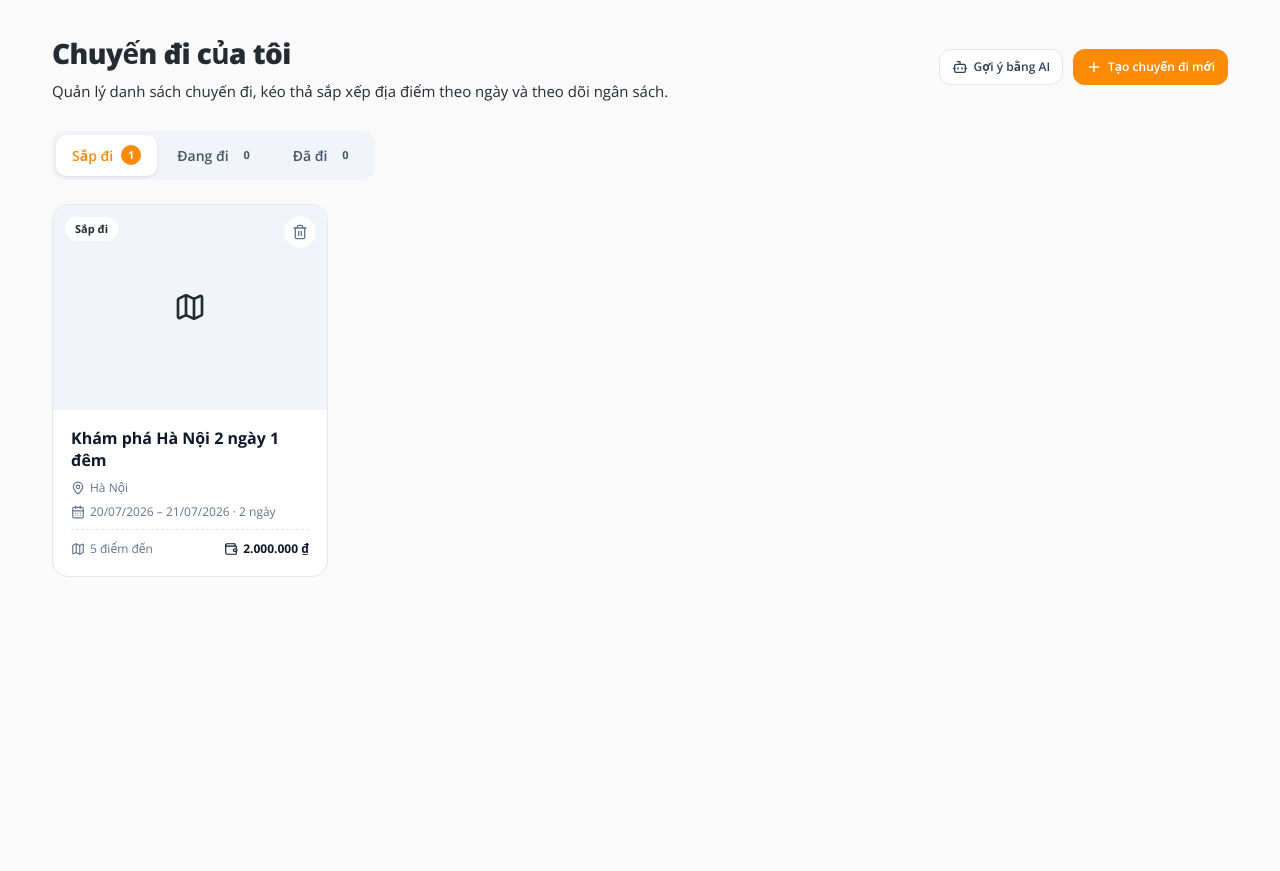
Test case: Pages: TripsPage (/trips) & TripDetailPage (/trips/:id) › TripsPage tải danh sách chuyến đi và cho phép tạo chuyến đi mới
Check: the link "Khám phá Hà Nội 2 ngày 1 đêm" is shown, box [71,428,279,471]
Click the button "Tạo chuyến đi mới". click: (1151, 67)
box: [1073,49,1228,85]
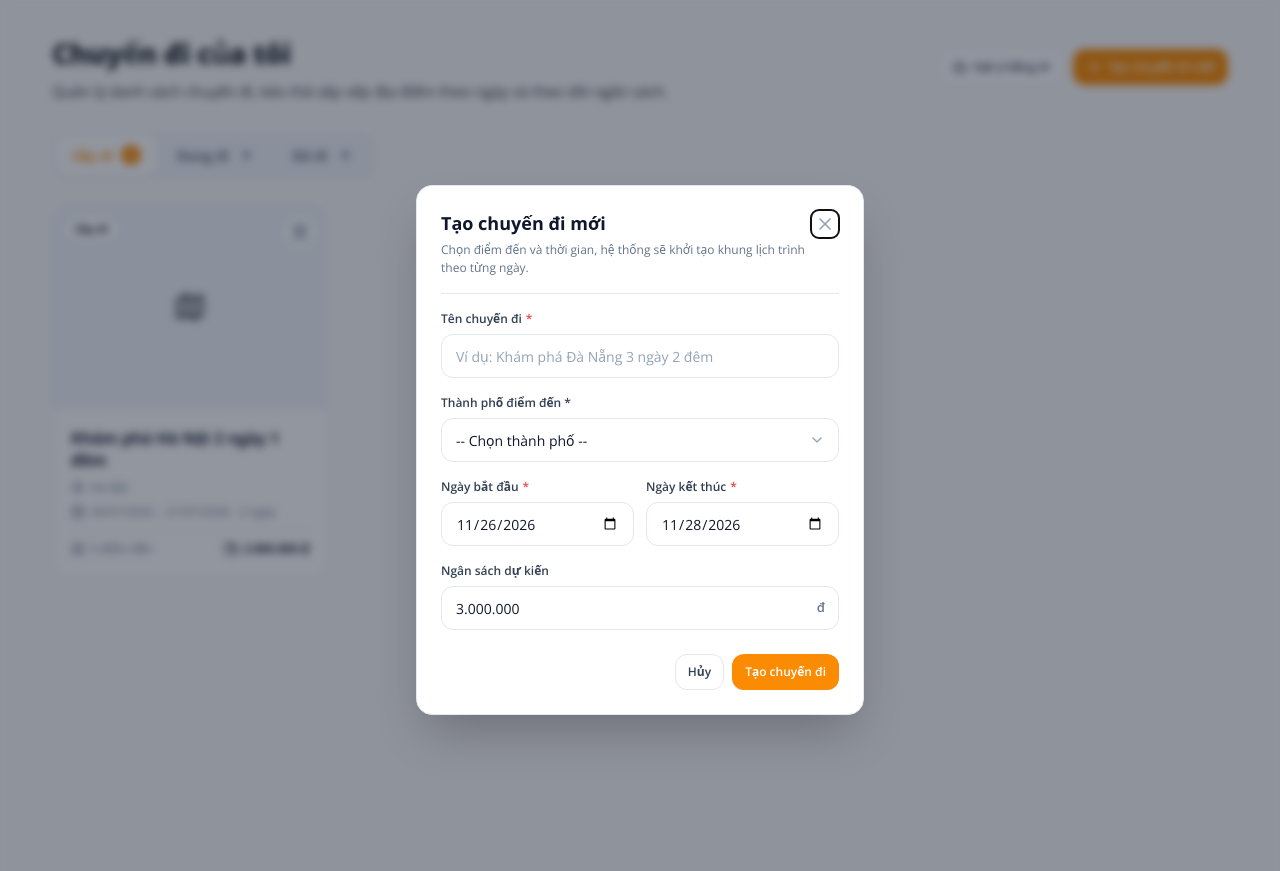
Check: the field labelled "Ngân sách dự kiến" holds "3.000.000", box [441,586,839,630]
Type "Hà Nội cuối tuần" into the field labelled "Tên chuyến đi*". click: (640, 356)
box: [441,334,839,378]
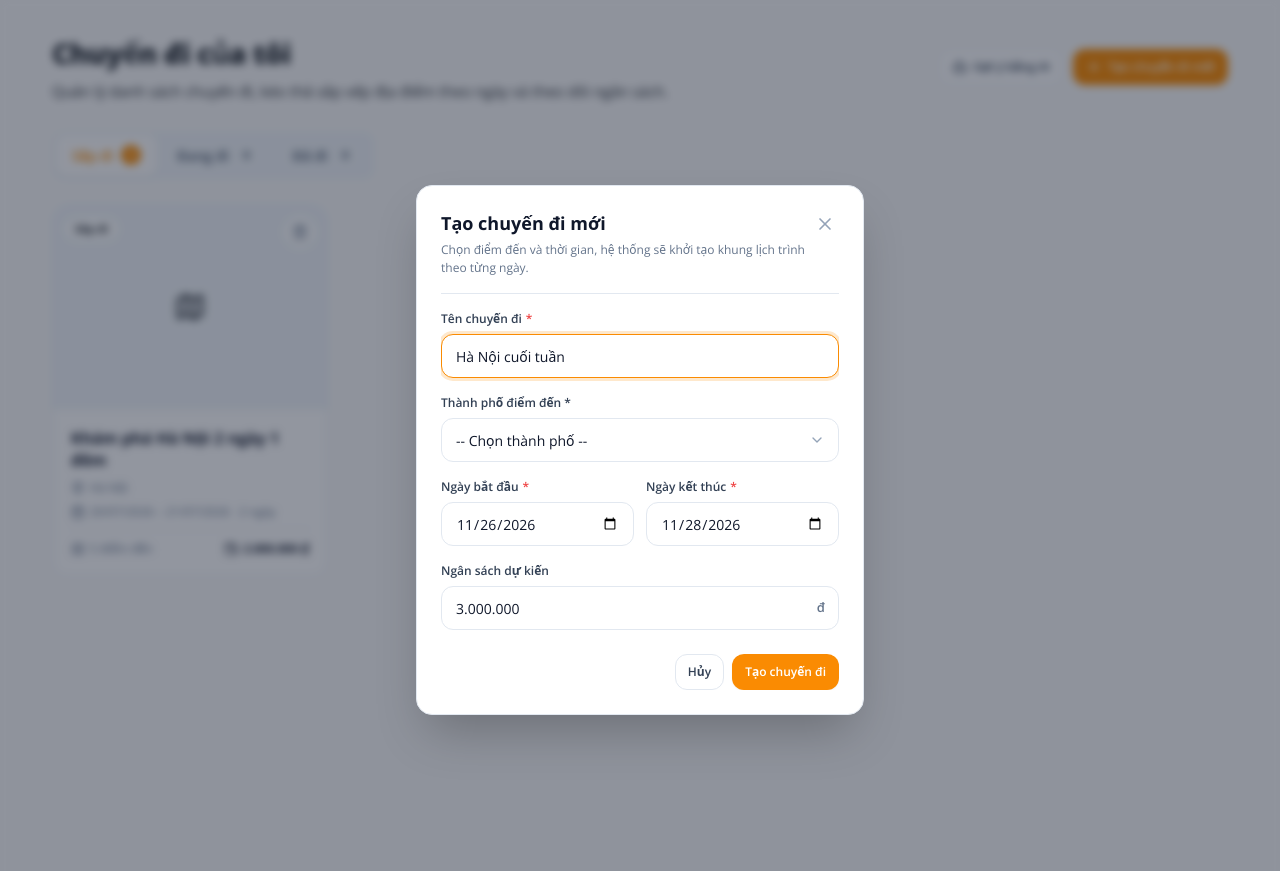
Select "Hà Nội" in the dropdown labelled "Thành phố điểm đến *". click: (640, 440)
box: [441,418,839,462]
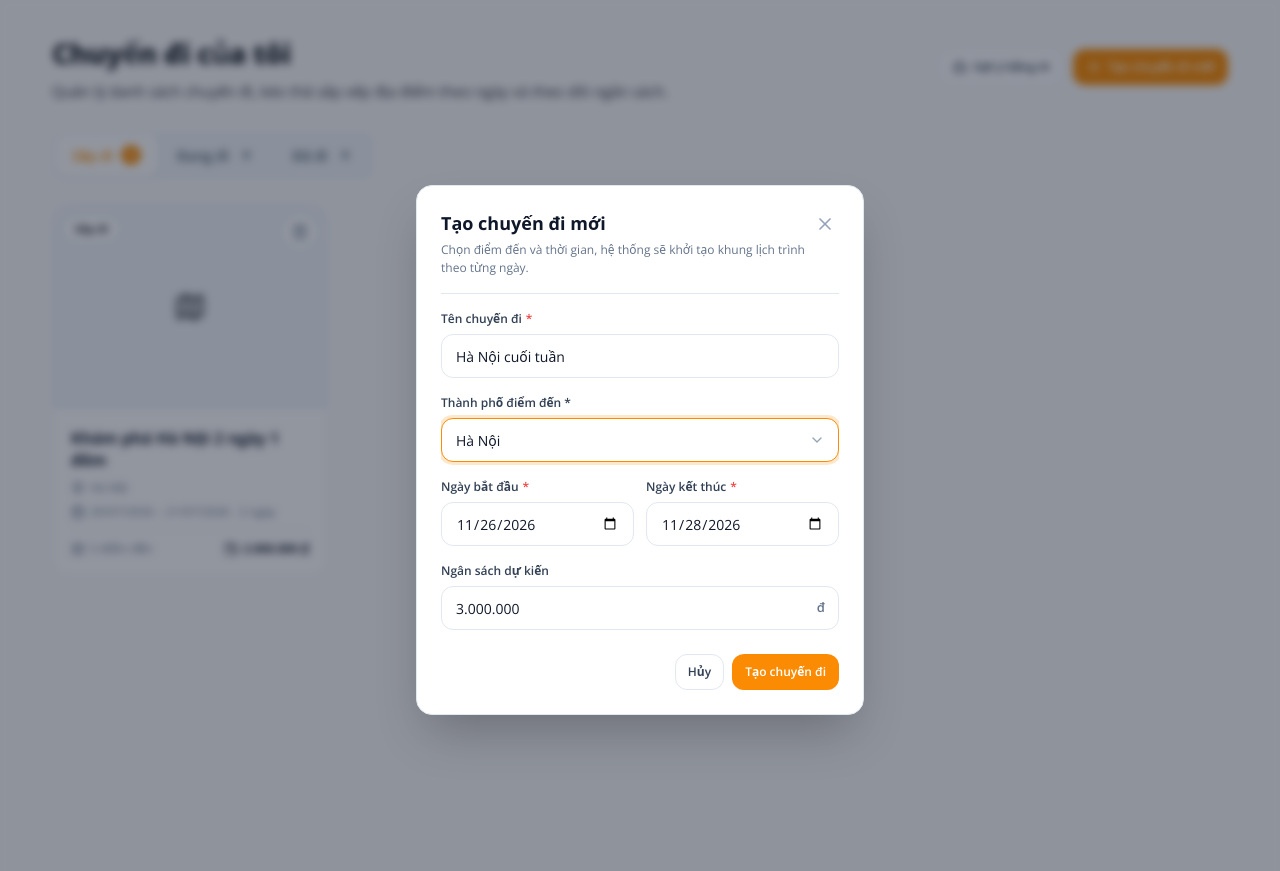
Click the button "Tạo chuyến đi". click: (786, 672)
box: [732,654,839,690]
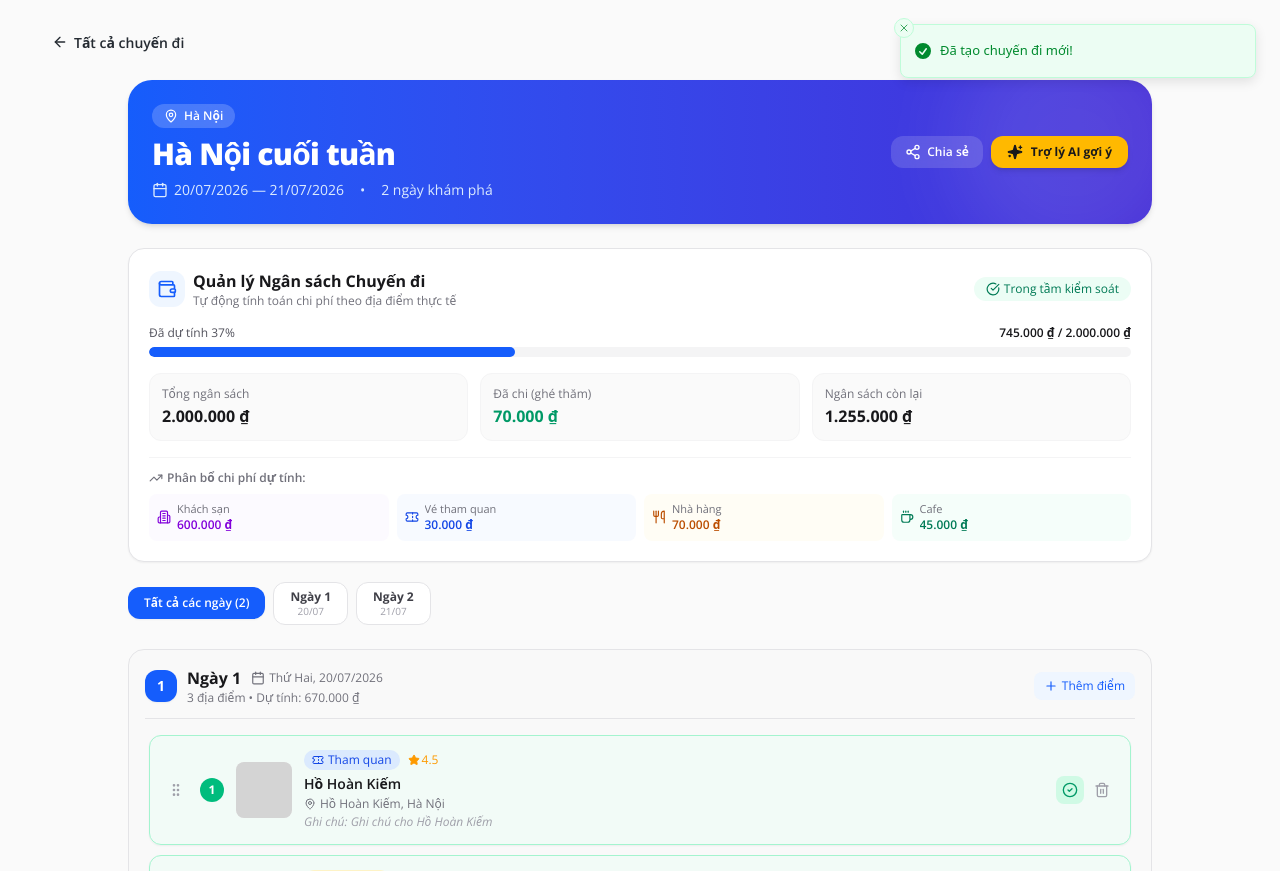
Check: the heading "Hà Nội cuối tuần" is shown, box [152,133,395,174]
